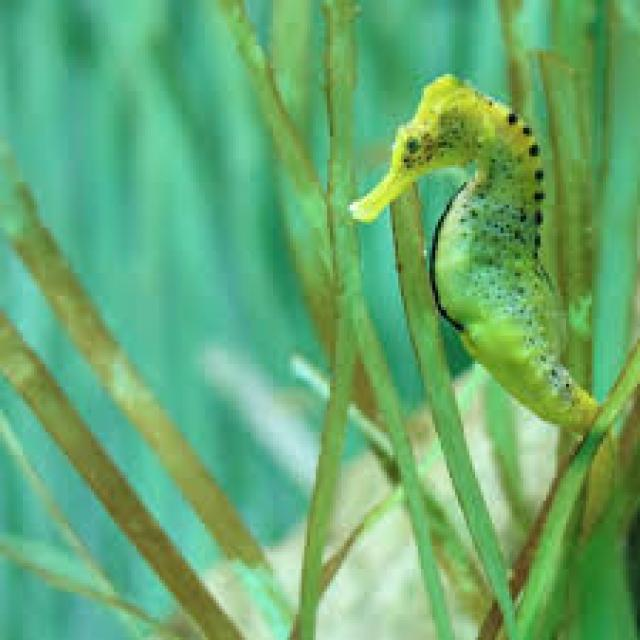SeaHorse: (347, 77, 600, 438)
